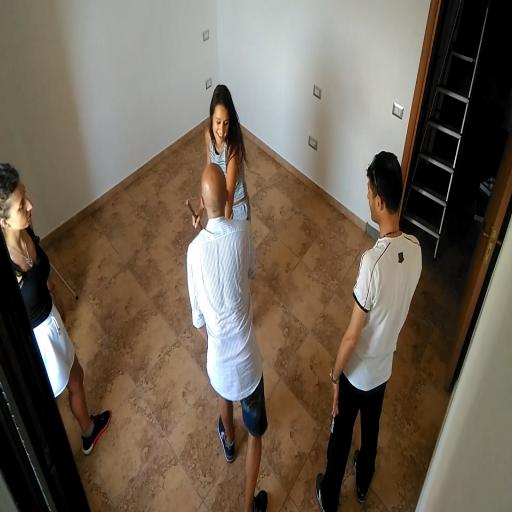violencia: (175, 74, 272, 512)
